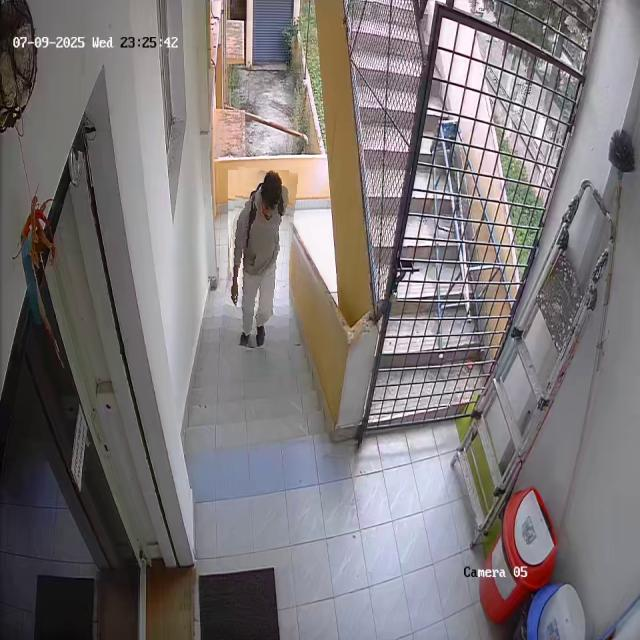person: (224, 169, 294, 349)
